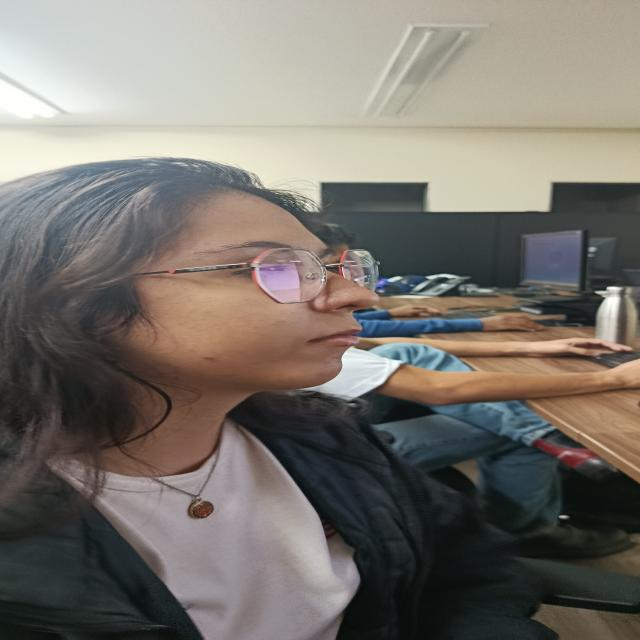sem_oculos: (134, 248, 329, 304), (331, 251, 377, 291)
